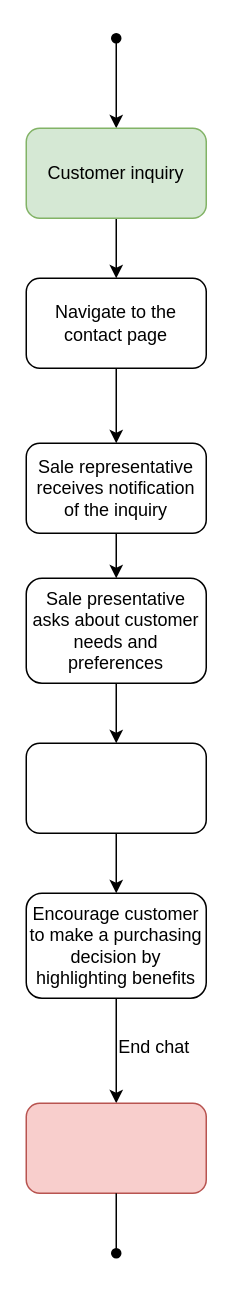
The diagram is 233 pixels wide and 1292 high, and some of its shapes have lost their labels. The shapes that lost their labels are listed below. From the top down, each one's centre as x and y in pixels, then its label:
At (115,787): "Sale presentative provide detail information about available products".
At (115,1147): "Close event".
